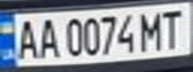0: (60, 15, 84, 58), (81, 14, 103, 56)
4: (115, 10, 139, 54)
7: (96, 11, 121, 55)
A: (12, 16, 42, 61), (33, 15, 60, 60)
M: (136, 7, 166, 52)
T: (157, 6, 190, 49)
